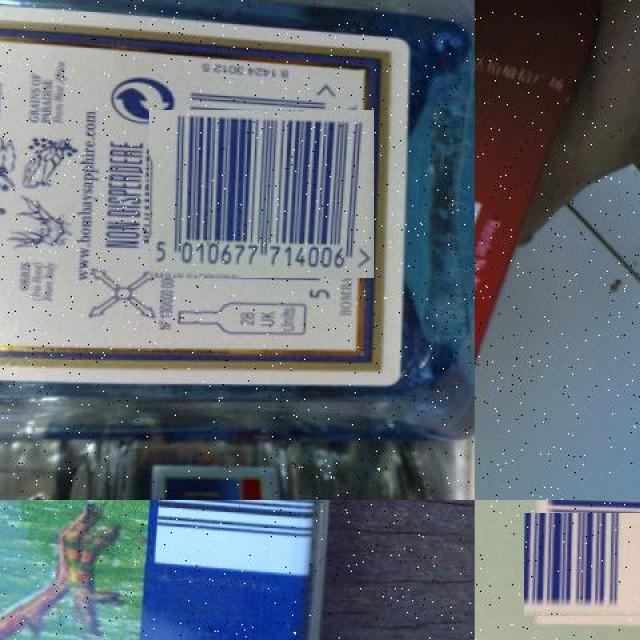Barcode: (163, 95, 360, 293), (148, 500, 353, 583), (530, 507, 640, 623)
